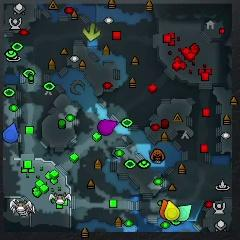p1: (3, 123, 19, 143)
p2: (177, 205, 191, 221)
p3: (97, 119, 118, 135)
p4: (165, 201, 180, 221)
p5: (159, 199, 168, 219)
x2: (83, 23, 100, 41)
